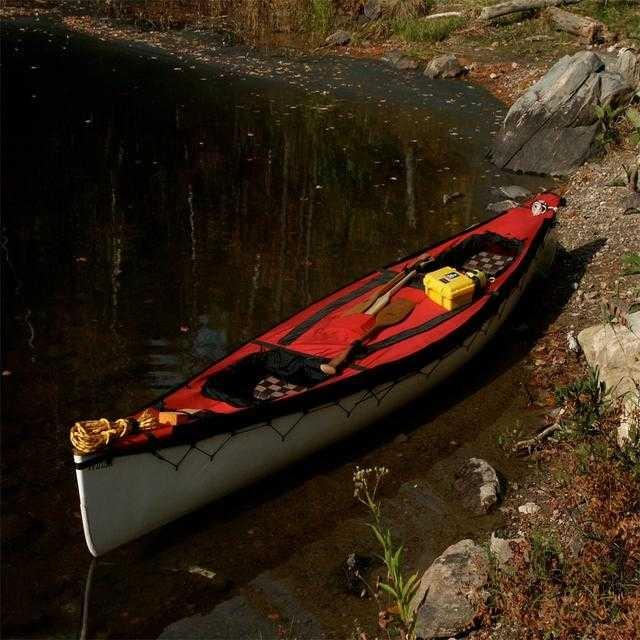kayak: (67, 190, 562, 562)
